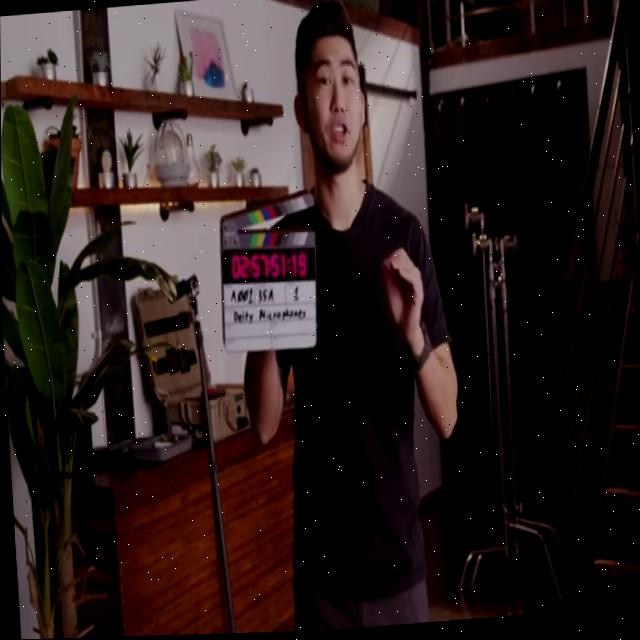Clapperboard: (212, 184, 324, 363)
